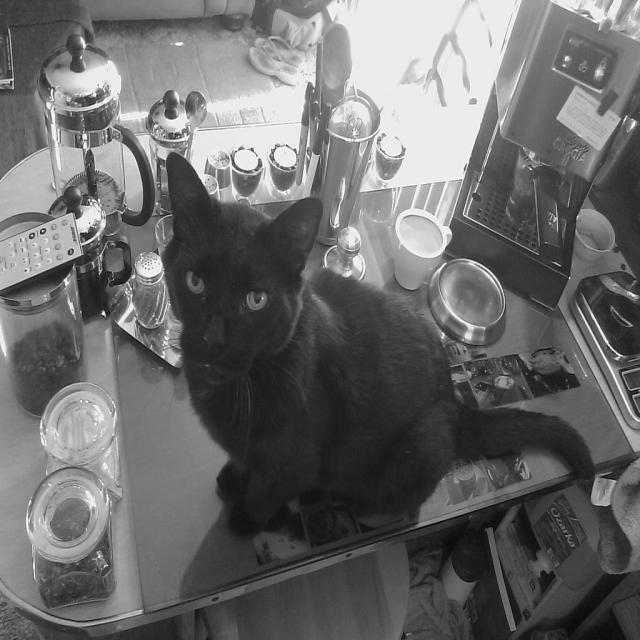Cat: (154, 137, 602, 536)
